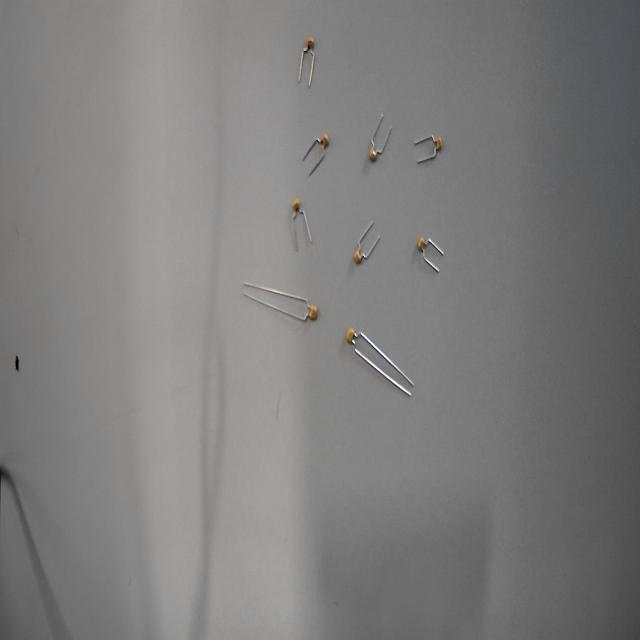capacitor: (342, 312, 392, 373), (276, 282, 326, 340), (362, 108, 403, 174), (413, 226, 453, 290), (349, 214, 388, 276), (282, 190, 316, 254), (299, 122, 334, 184), (415, 126, 456, 176), (294, 20, 320, 96)
